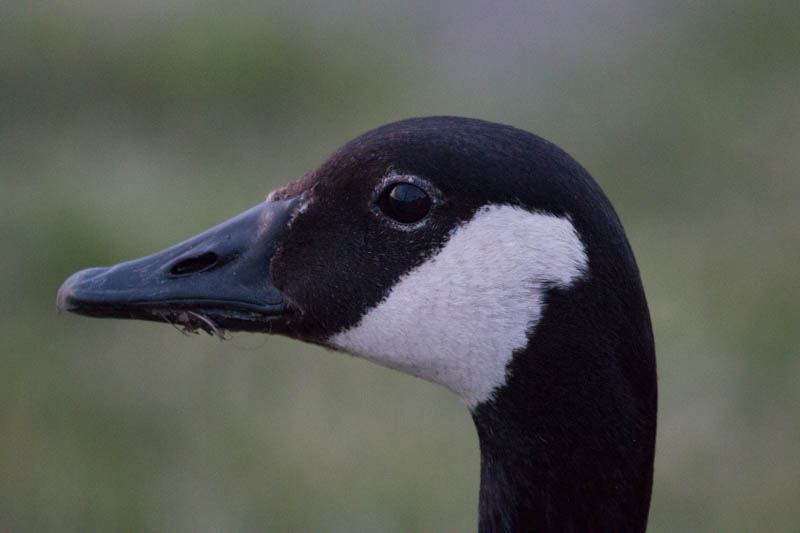goose-head: (54, 113, 659, 414)
